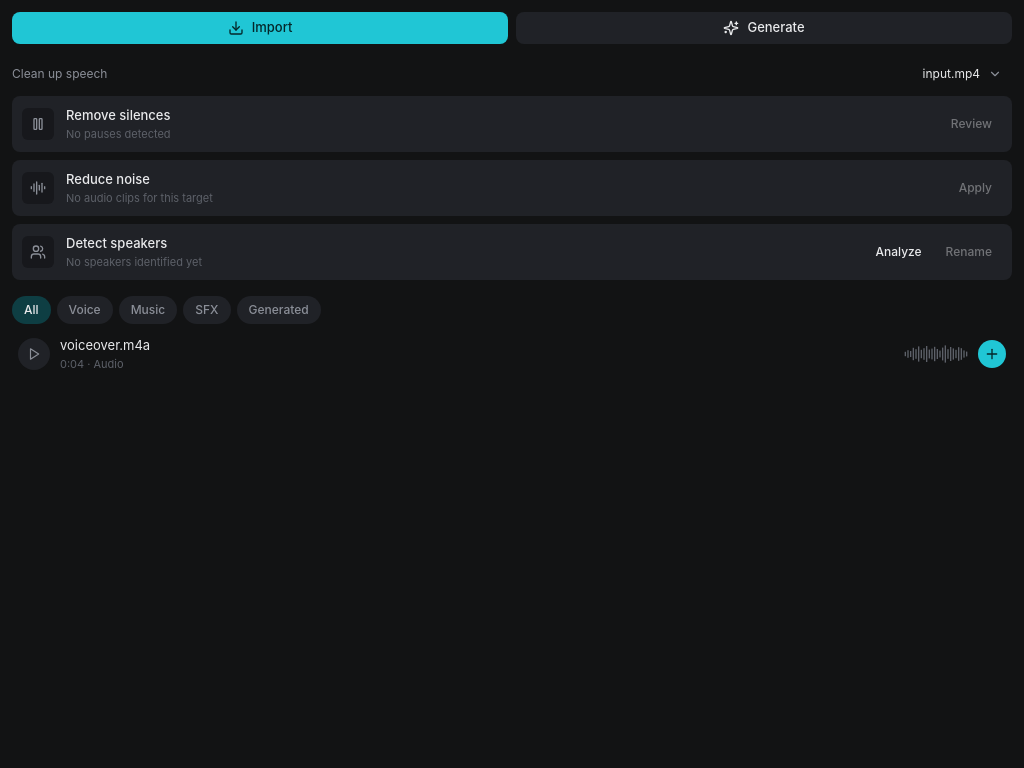
Test: AudioPanel › analyzes speakers, shows the count and renames in the speakers dialog
Expected: the button with aria-label "Rename speakers" is disabled, 936,238 -> 1002,266
Click the button with aria-label "Analyze speech" at [899, 252], box 866,238 -> 932,266
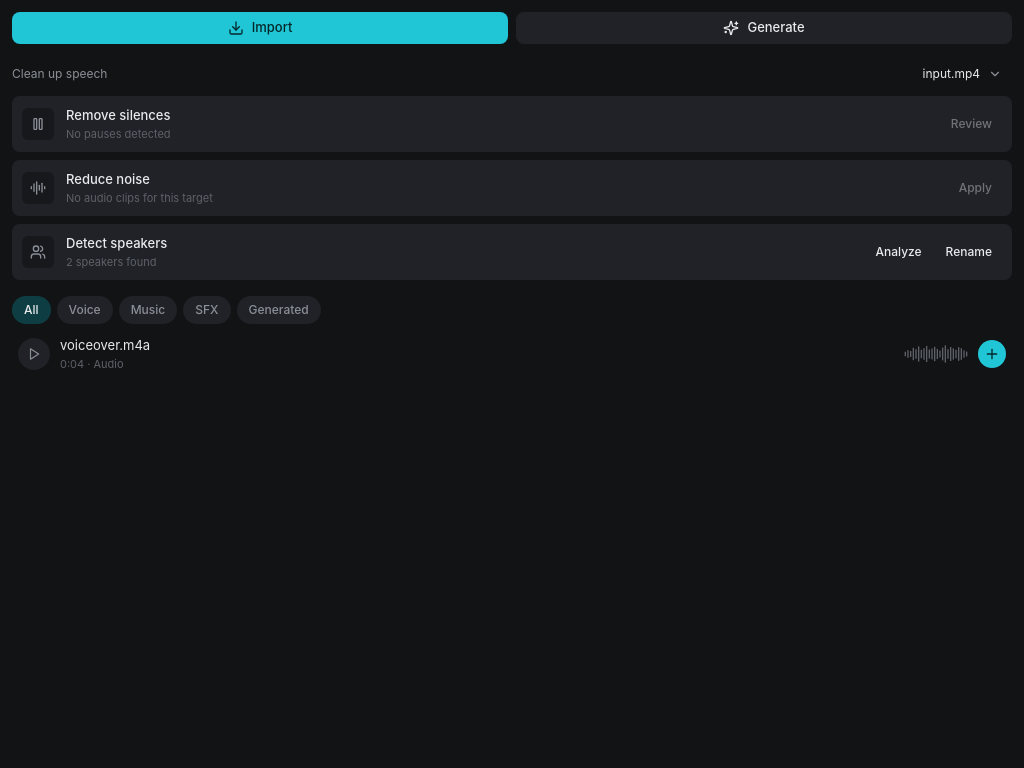
Expected: the text "2 speakers found" is shown, 66,254 -> 156,268
Click the button with aria-label "Rename speakers" at [969, 252], box 936,238 -> 1002,266
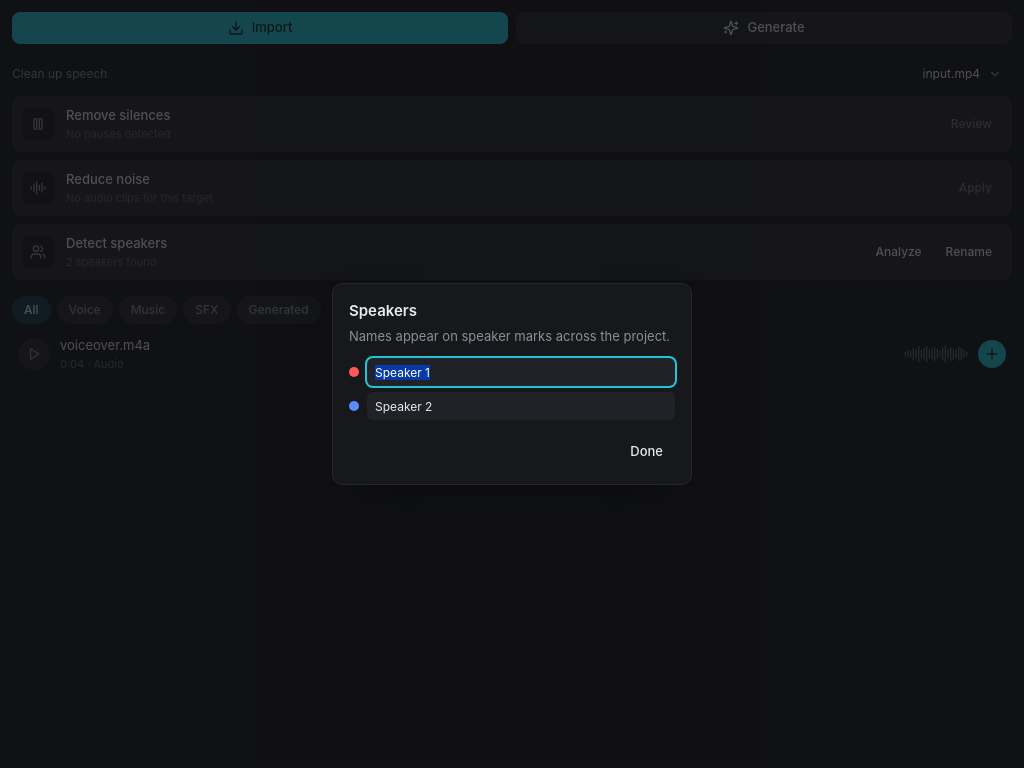
Replace the text in the field named "Name for Speaker 1" with "Host" at [521, 372], box 367,358 -> 675,386
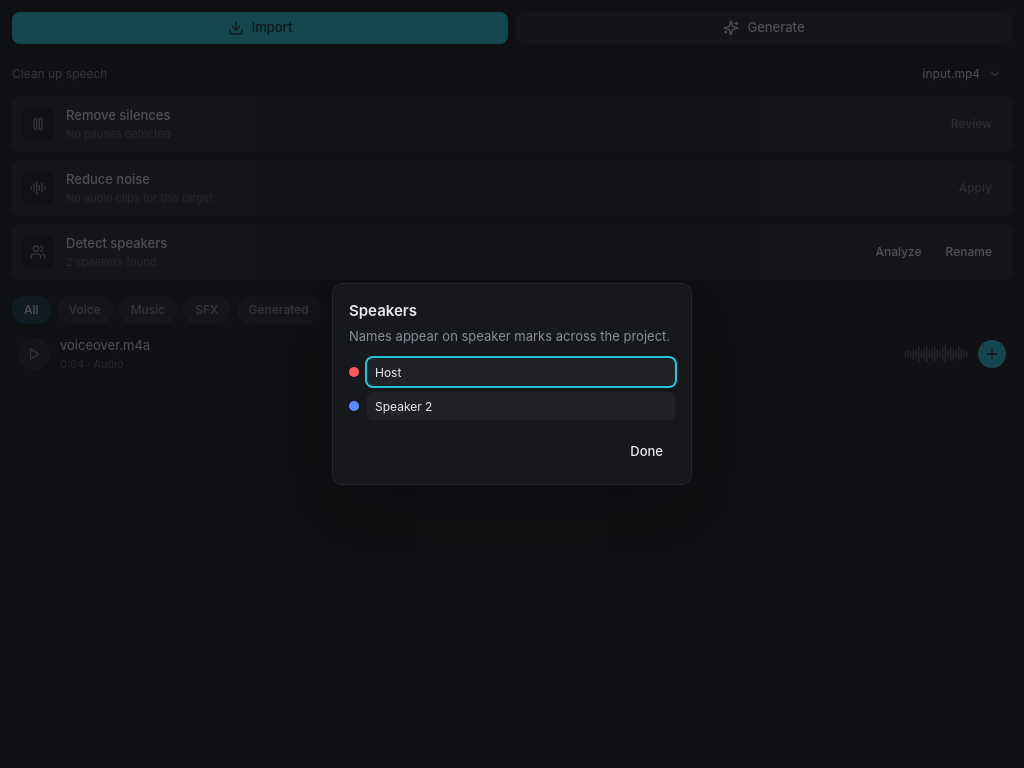
Leave the field named "Name for Speaker 1", box 367,358 -> 675,386
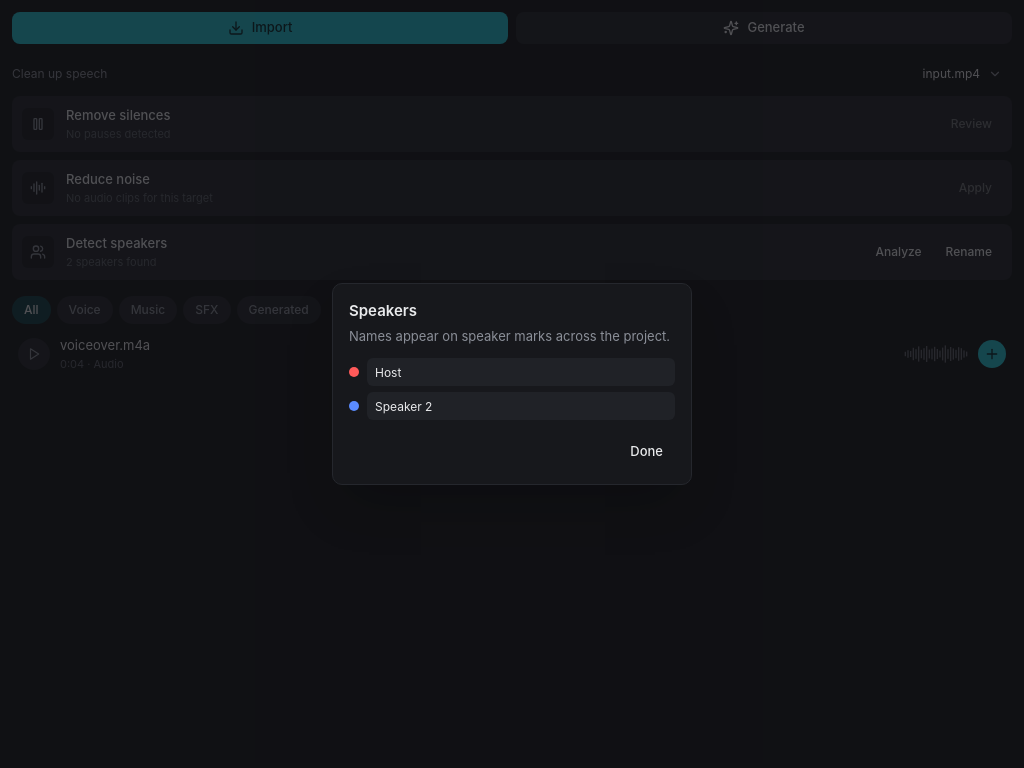
Expected: the field named "Name for Host" is shown, 367,358 -> 675,386
